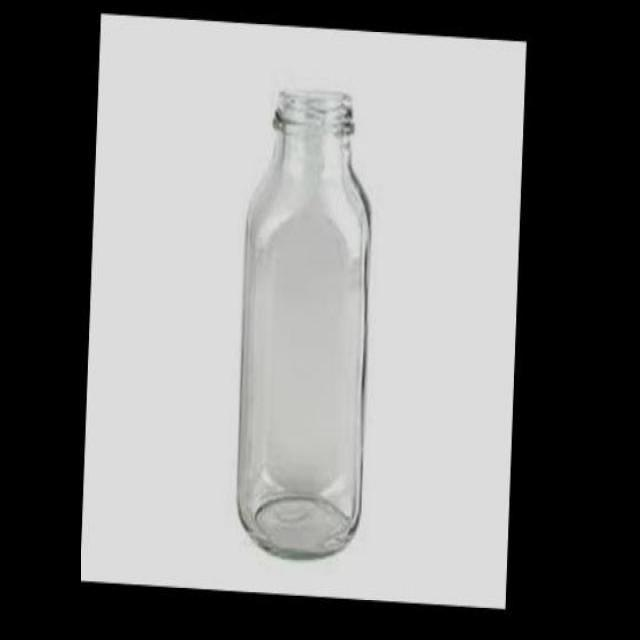Glass: (224, 75, 384, 573)
